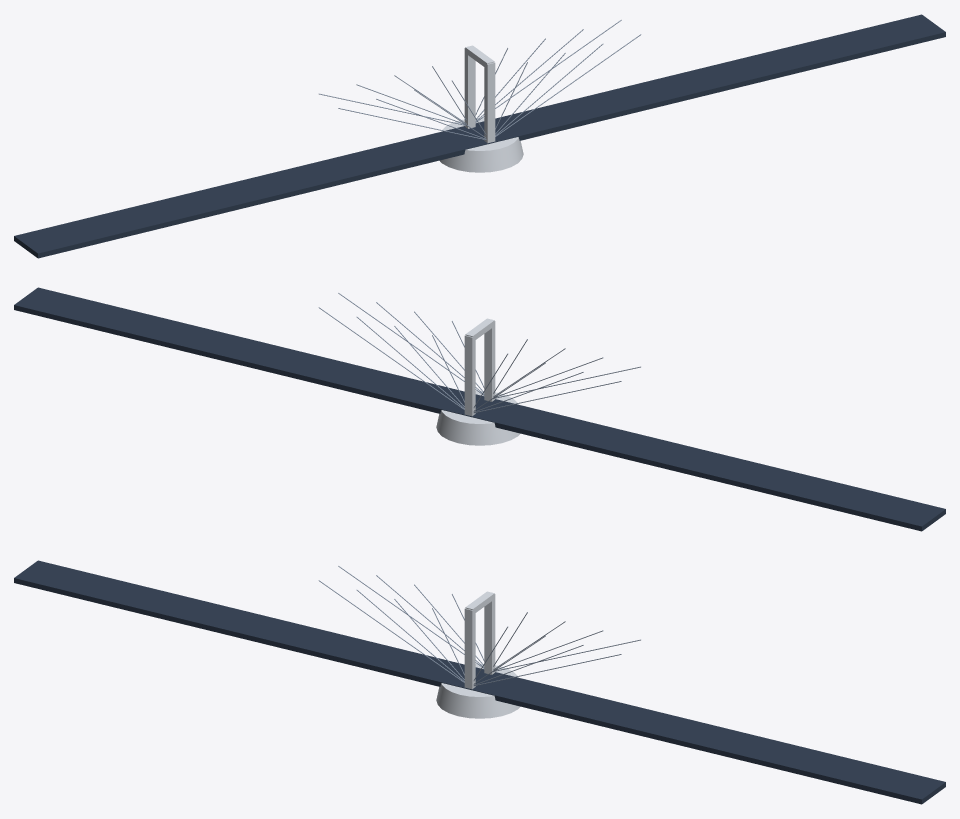
Rendered from han_bridge.glb.
3 renders of one model, top to bottom at view 1: azimuth 30°, elevation 25°; view 2: azimuth 150°, elevation 25°; view 3: azimuth 330°, elevation 25°, orthographic.
Bounding box in the file's own units: 480 × 50.5 × 40.
